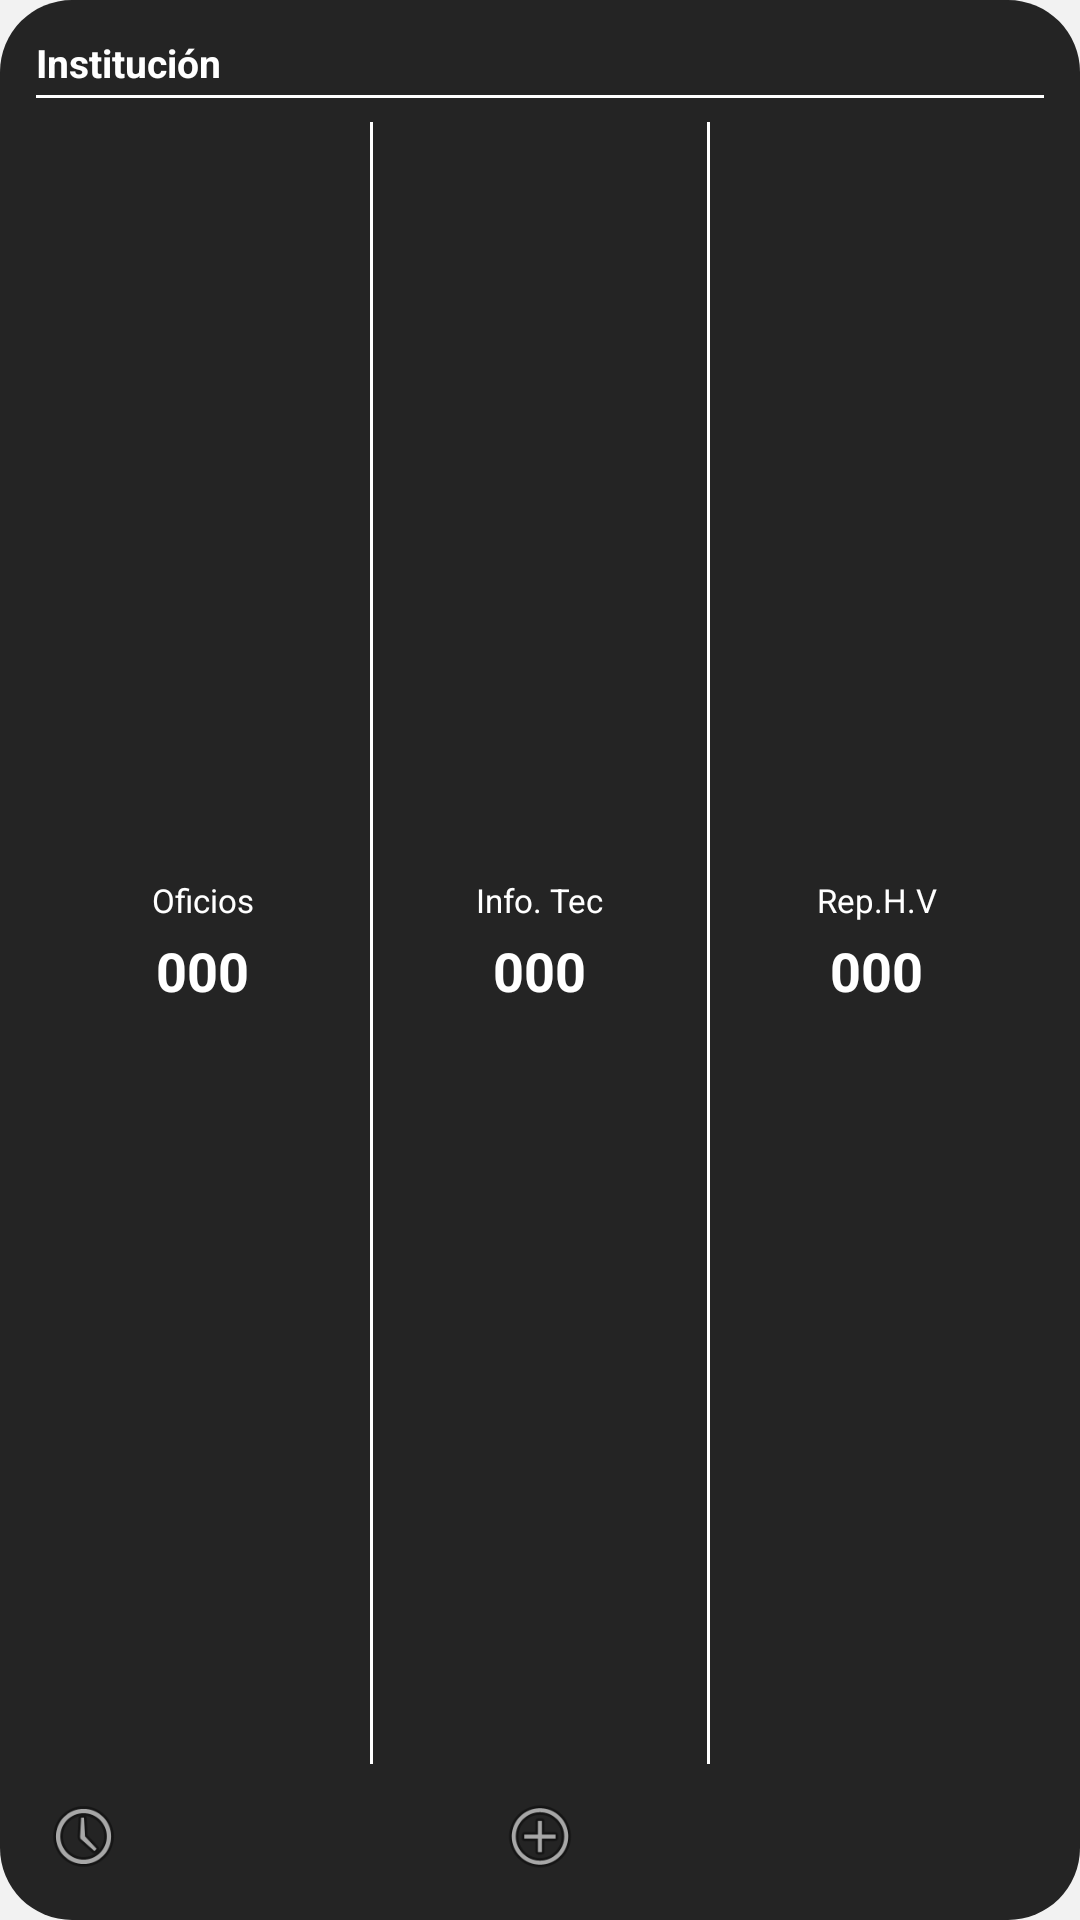

Named icons in this screenshot (1080px×1920px) and their bounding boxes, (x1, y1, x2, y2):
Bitácora de Seguimiento: (56, 1809, 111, 1864)
Nuevo Formulario: (512, 1808, 568, 1865)
